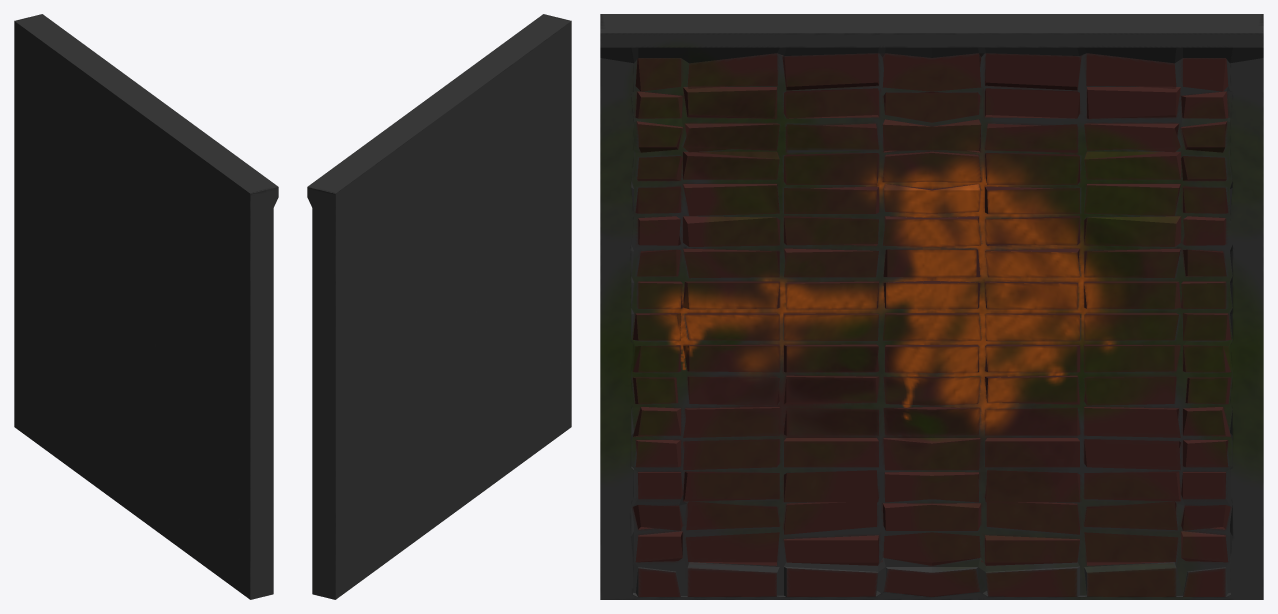
File: Wall.fbx
3 views of the same model, side by side, from view 1: azimuth 30°, elevation 25°; view 2: azimuth 150°, elevation 25°; view 3: azimuth 270°, elevation 25° (orthographic). The views are drawn at different scales.
Visible parts, largest first — view 1: Wall; view 2: Wall; view 3: Wall.
Boxes of the visible parts, x1,y1,x2,y2 form: Wall: [14, 14, 278, 599]; Wall: [307, 14, 571, 599]; Wall: [600, 14, 1263, 599].
Bounding box in the file's own units: 118 × 1629 × 1717.
